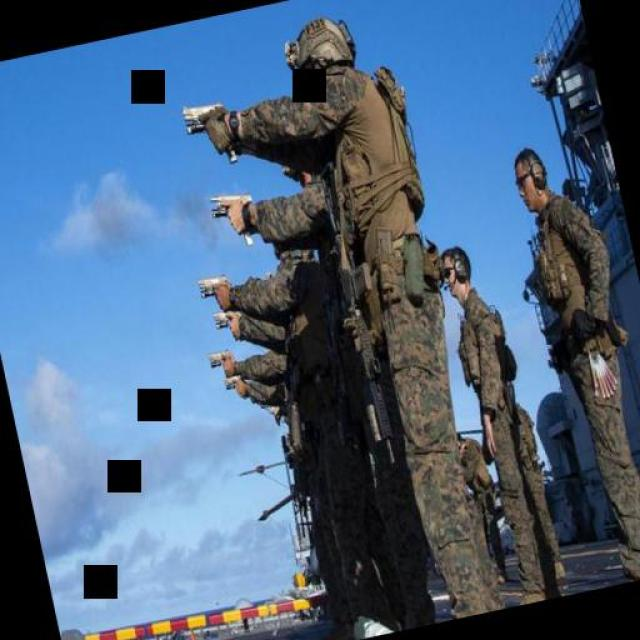gun: (176, 90, 240, 172), (205, 182, 265, 256), (192, 265, 232, 305), (204, 344, 232, 374), (210, 306, 235, 329), (220, 369, 241, 395)
